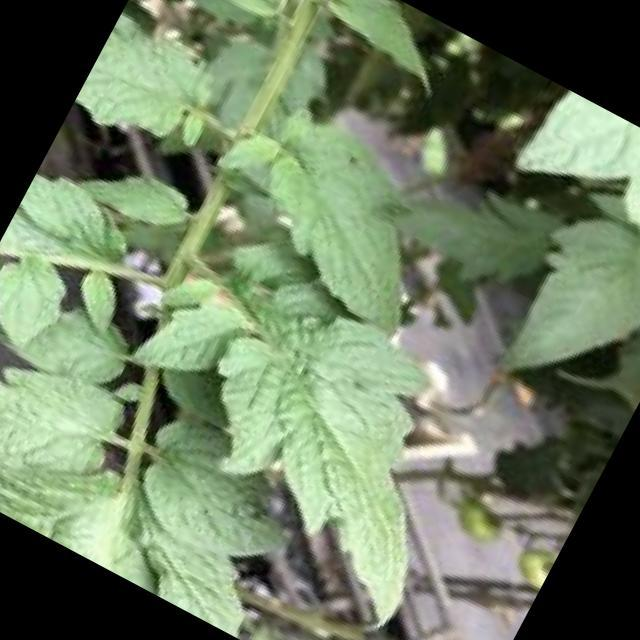Tomato healthy leaf: (207, 280, 419, 622), (216, 113, 403, 338), (475, 192, 640, 429), (121, 398, 326, 588), (0, 176, 144, 354), (507, 90, 640, 233), (74, 18, 218, 144), (309, 0, 461, 99), (0, 370, 123, 488)
